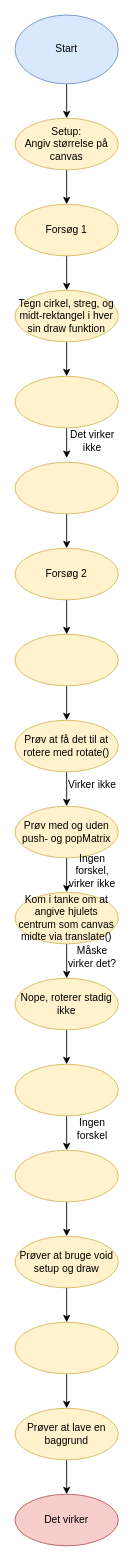
This 133x1561 diagram has some shape labels left out. Each missing label, with the box of its shape:
Det roterer ved at nye hjul laves uden at de gamle fjernes: (14, 1321, 118, 1374)
Forsøg at give det et realistisk look: (14, 375, 118, 428)
Kom i tanke om noget der hedder en arc: (14, 461, 118, 514)
Lav 3 arcs. 2 som giver cirkel og 2 eger, 1 som giver 2 eger mere: (14, 633, 118, 686)
Sæt hver arc ind i sin egen draw funktion: (14, 1063, 118, 1116)
Tænk over livet og alt den tid du bruger på noget som alligevel ikke virker: (14, 1149, 118, 1202)
